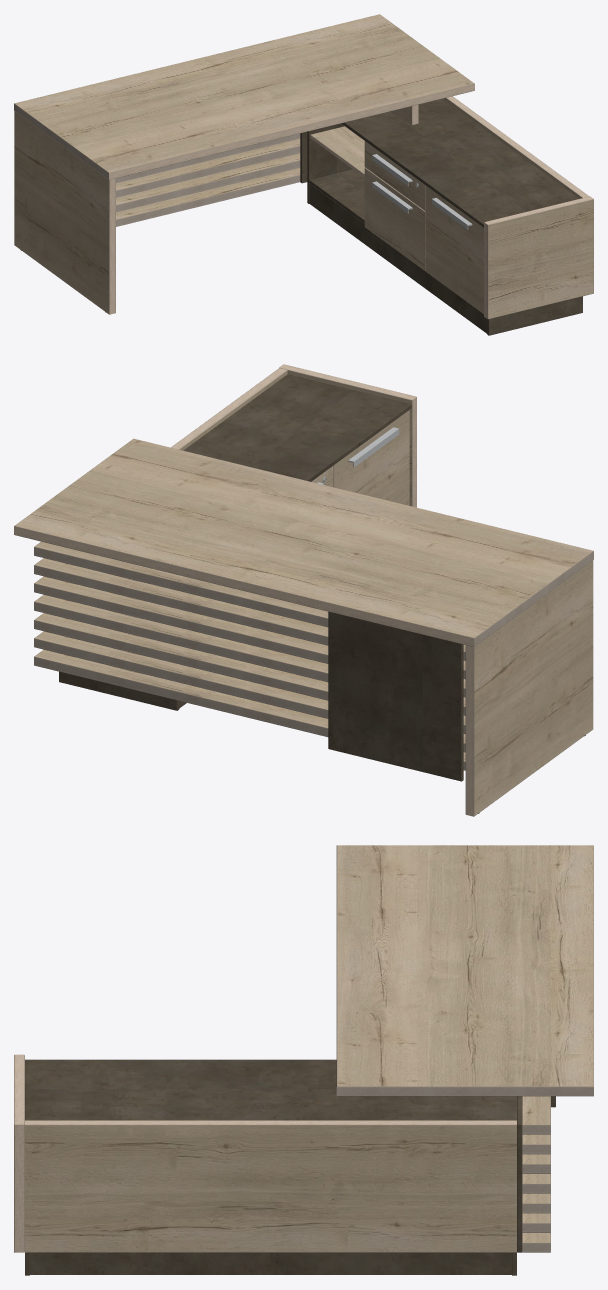
3 views of the same model, one above another, from view 1: azimuth 30°, elevation 25°; view 2: azimuth 150°, elevation 25°; view 3: azimuth 270°, elevation 25° (orthographic). The views are drawn at different scales.
Visible parts, largest first — view 1: Box1578995149, Line1789532200, Line1789532211, Line1789532197, Line1789532193, Line1789532195, Line1789532187, Line1789532205, Line1789532206, Line1789532207, Line1789532186, Line1789532184 (+5 smaller); view 2: Box1578995149, Line1789532200, Line1789532201, Line1789532211, Line1789532204, Line1789532205, Line1789532203, Line1789532206, Line1789532207, Line1789532208, Line1789532209, Line1789532193 (+3 smaller); view 3: Line1789532198, Box1578995149, Line1789532211, Line1789532188, Line1789532197, Line1789532209, Line1789532199, Line1789532205, Line1789532208, Line1789532203, Line1789532204, Line1789532206 (+1 smaller).
Boxes of the visible parts, bbox=[...] form: Box1578995149: bbox=[14, 14, 474, 179]; Line1789532200: bbox=[14, 111, 115, 314]; Line1789532211: bbox=[341, 98, 579, 227]; Line1789532197: bbox=[484, 196, 593, 319]; Line1789532193: bbox=[425, 185, 483, 313]; Line1789532195: bbox=[364, 167, 425, 270]; Line1789532187: bbox=[309, 183, 487, 333]; Line1789532205: bbox=[116, 138, 300, 197]; Line1789532206: bbox=[116, 153, 300, 212]; Line1789532207: bbox=[116, 167, 300, 226]; Line1789532186: bbox=[309, 169, 364, 223]; Line1789532184: bbox=[487, 296, 582, 335]; Box1578995149: bbox=[14, 438, 593, 646]; Line1789532200: bbox=[465, 560, 593, 816]; Line1789532201: bbox=[328, 611, 463, 781]; Line1789532211: bbox=[183, 374, 411, 481]; Line1789532204: bbox=[34, 595, 465, 715]; Line1789532205: bbox=[34, 613, 465, 733]; Line1789532203: bbox=[34, 576, 465, 697]; Line1789532206: bbox=[34, 631, 465, 752]; Line1789532207: bbox=[34, 649, 465, 770]; Line1789532208: bbox=[34, 558, 465, 679]; Line1789532209: bbox=[34, 541, 465, 660]; Line1789532193: bbox=[333, 410, 409, 505]; Line1789532198: bbox=[25, 1120, 516, 1252]; Box1578995149: bbox=[336, 845, 593, 1096]; Line1789532211: bbox=[25, 1059, 516, 1120]; Line1789532188: bbox=[30, 1252, 511, 1274]; Line1789532197: bbox=[14, 1054, 24, 1252]; Line1789532209: bbox=[522, 1096, 550, 1134]; Line1789532199: bbox=[517, 1096, 522, 1252]; Line1789532205: bbox=[522, 1193, 550, 1213]; Line1789532208: bbox=[522, 1134, 550, 1154]; Line1789532203: bbox=[522, 1154, 550, 1173]; Line1789532204: bbox=[522, 1174, 550, 1193]; Line1789532206: bbox=[522, 1213, 550, 1232].
Size of the model in its own units: 2 by 0.75 by 2.03.
8 materials, 6 textured.
